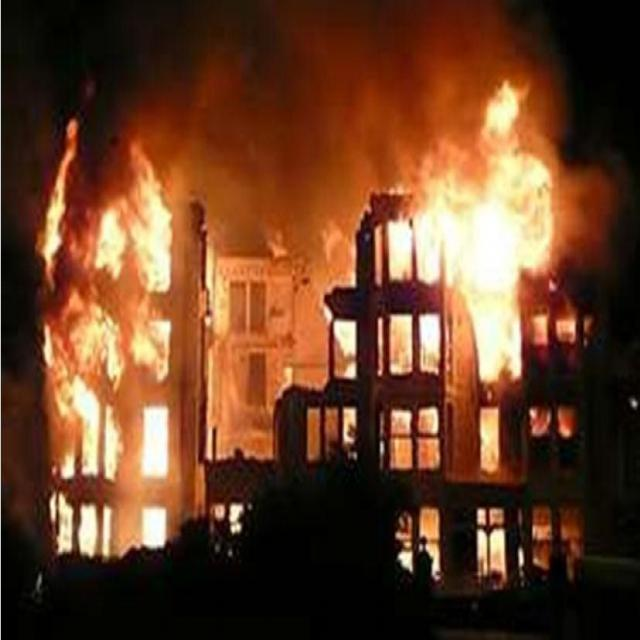Fire: (22, 116, 572, 547)
